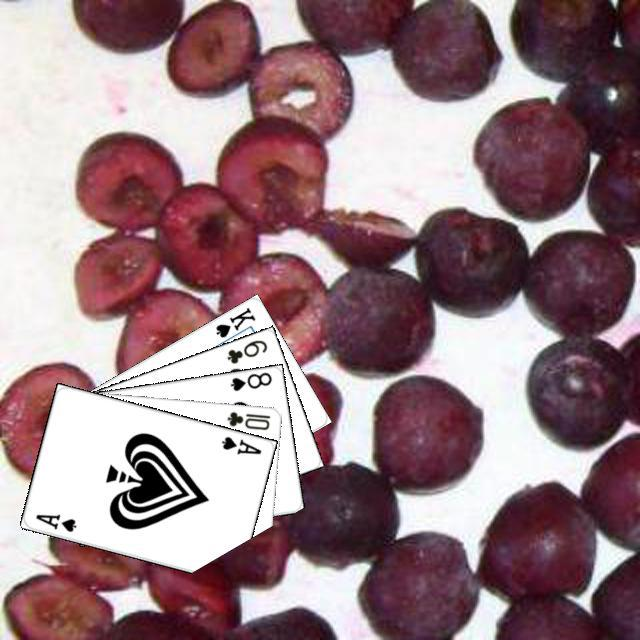10c: (222, 407, 272, 432)
6c: (222, 335, 269, 366)
8s: (225, 368, 273, 393)
As: (31, 509, 78, 534), (217, 431, 263, 456)
Ks: (211, 302, 257, 340)
